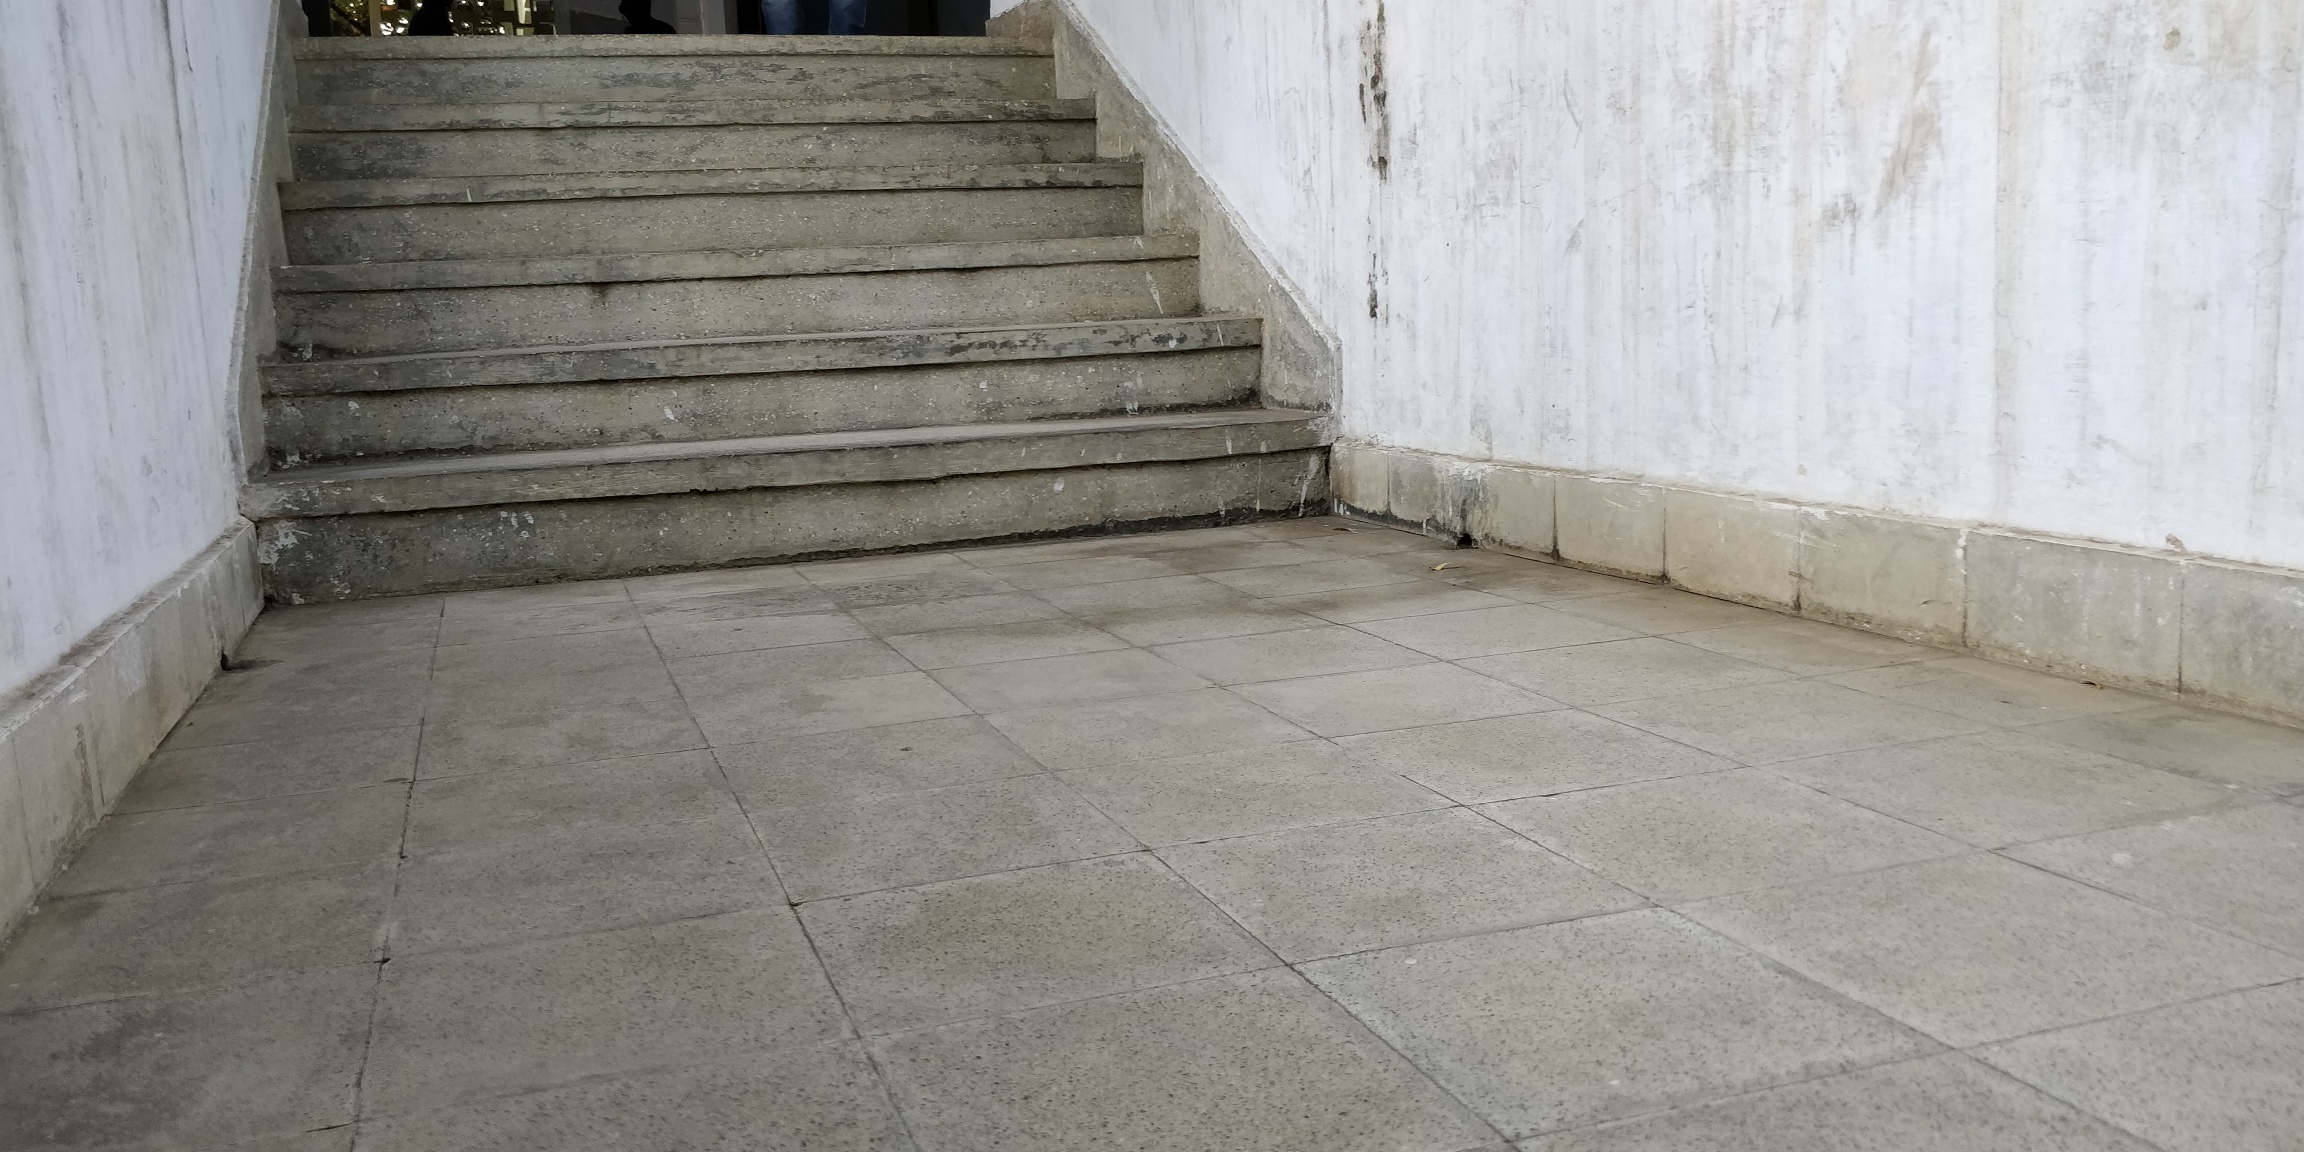stairs_up: (248, 32, 1339, 567)
